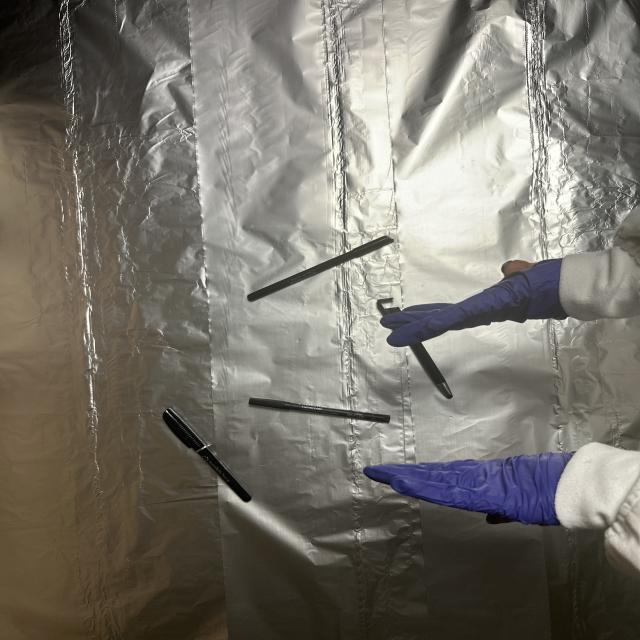glove_partial: (365, 452, 599, 532), (380, 254, 570, 347)
